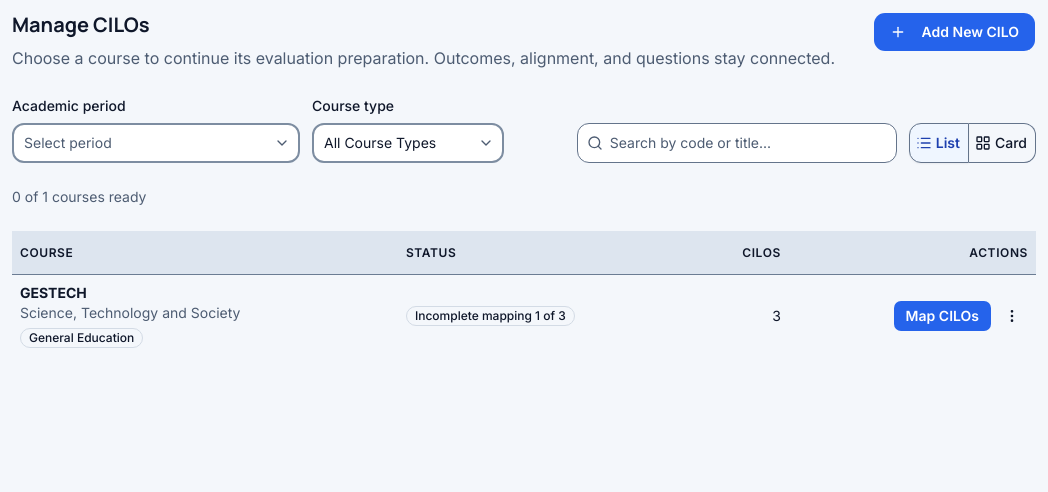
FacultyCilosCourseList › exposes View, Map, and Prepare actions in the list view kebab
The image size is (1048, 492).
Click the button named "Actions for GESTECH".
click(1012, 316)  # box [996,300,1028,332]
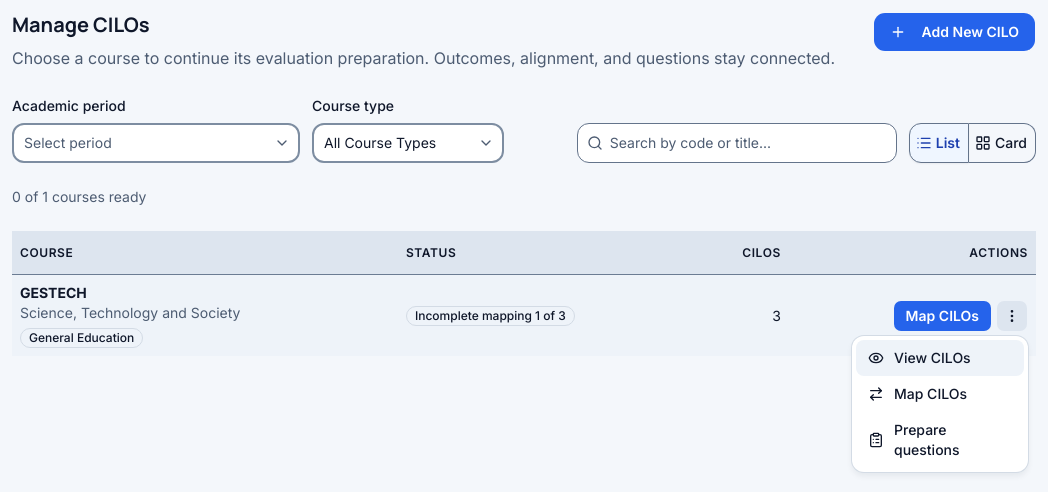
Now the menu item "View CILOs" is shown, box [856,340,1024,376]
Now the menu item "Prepare questions" is shown, box [868,421,960,458]
